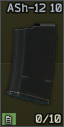ASh-12 12.7x55 10-round magazine: (0, 0, 64, 127)
